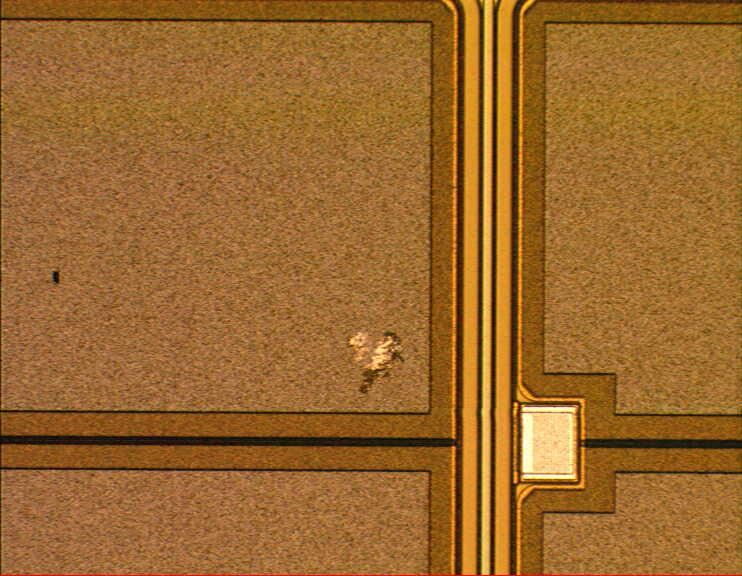SCRATCH: (329, 327, 408, 400)
